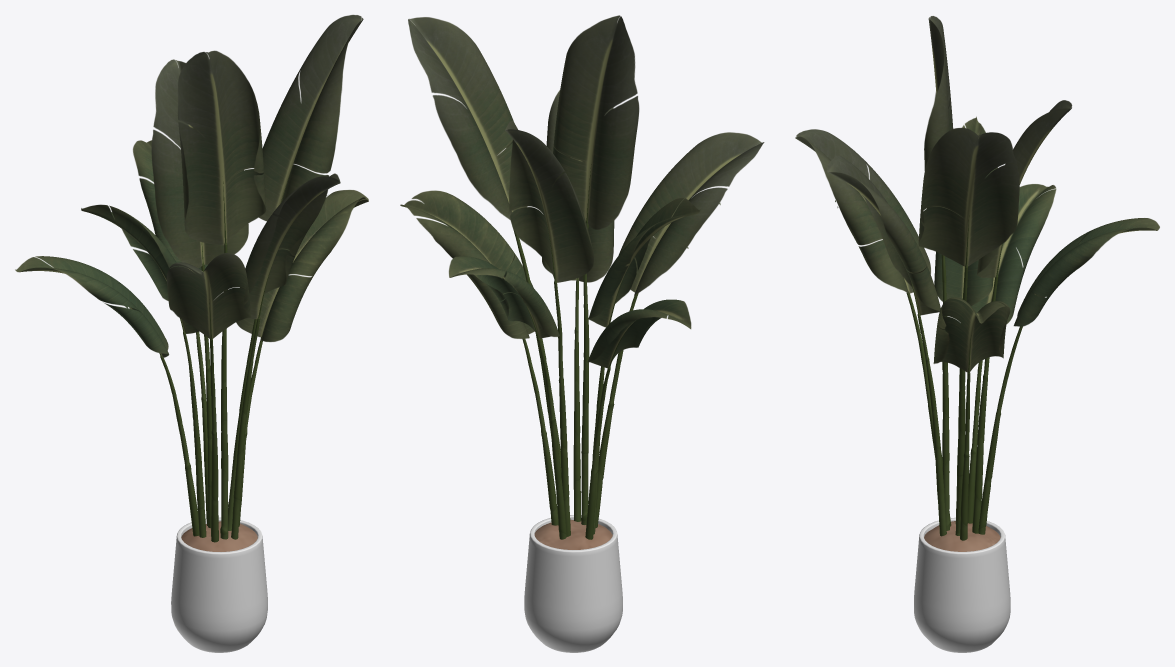
The picture shows the model from 3 angles, left to right: view 1: azimuth 30°, elevation 25°; view 2: azimuth 150°, elevation 25°; view 3: azimuth 270°, elevation 25°; orthographic projection.
Visible parts, largest first — view 1: Vases_HQ Plants Bird Of ParadiseBird Vase_08; view 2: Vases_HQ Plants Bird Of ParadiseBird Vase_08; view 3: Vases_HQ Plants Bird Of ParadiseBird Vase_08.
Part boxes in pixels (x1,y1,x2,y2): Vases_HQ Plants Bird Of ParadiseBird Vase_08: [15, 14, 368, 652]; Vases_HQ Plants Bird Of ParadiseBird Vase_08: [400, 15, 764, 652]; Vases_HQ Plants Bird Of ParadiseBird Vase_08: [795, 16, 1159, 652].
Size of the model in its own units: 1.01 by 1.84 by 0.9979.
Materials: 4 (3 with a texture image).
